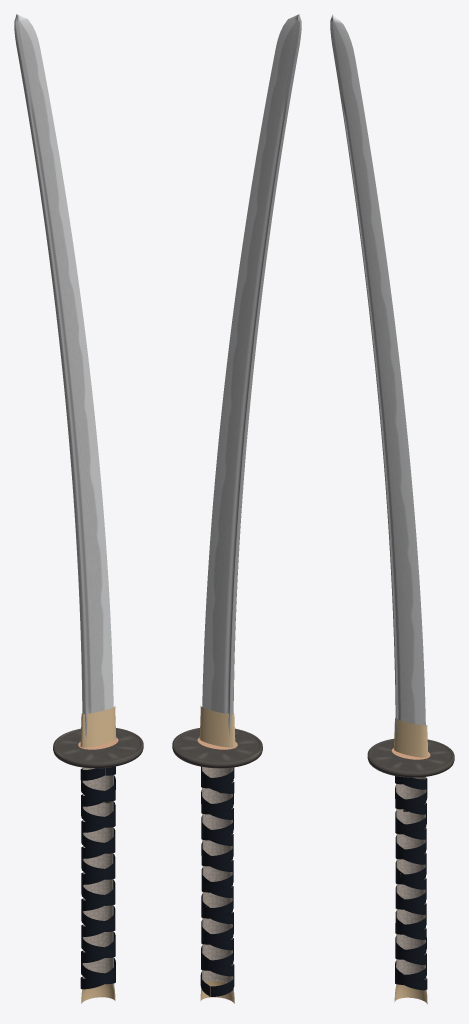
File: katana.glb
3 views of the same model, side by side, from view 1: azimuth 30°, elevation 25°; view 2: azimuth 150°, elevation 25°; view 3: azimuth 330°, elevation 25° (orthographic). The views are drawn at different scales.
Visible parts, largest first — view 1: katana; view 2: katana; view 3: katana.
Part boxes in pixels (x1,y1,x2,y2): katana: (14,14,143,1003); katana: (172,14,301,1003); katana: (330,14,454,1004).
Bounding box in the file's own units: 0.1216 × 0.9455 × 0.0735.
Materials: 7 (4 with a texture image).
